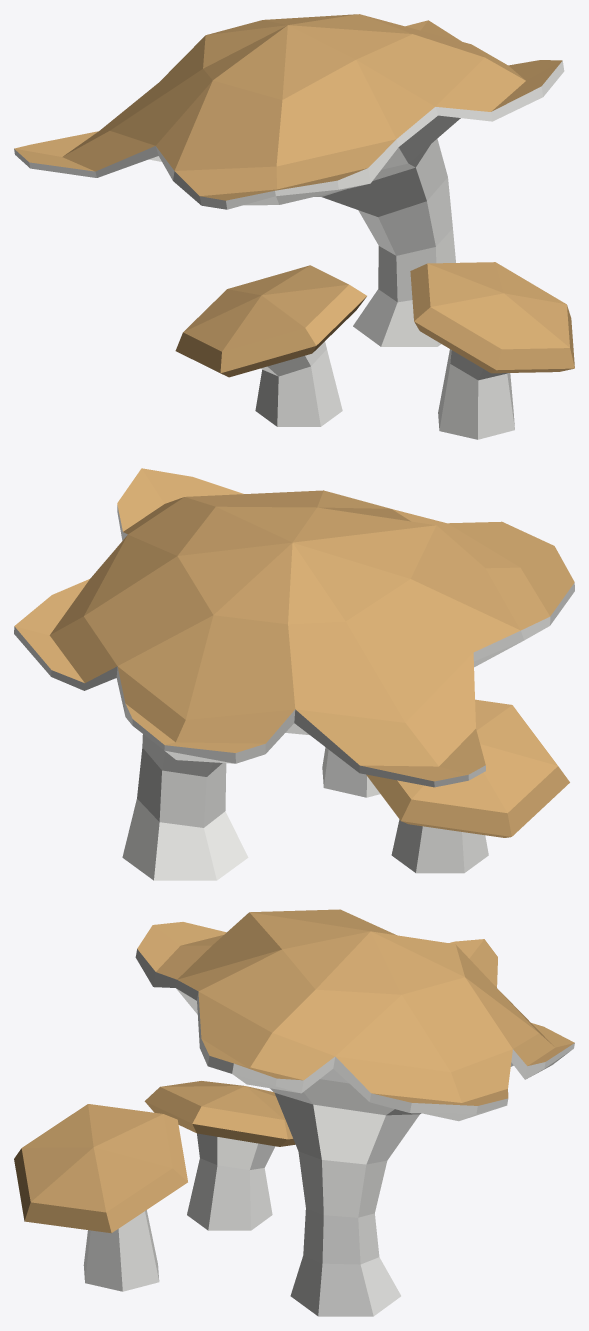
Rendered from yellow_mushroom.fbx.
The picture shows the model from 3 angles, top to bottom: view 1: azimuth 30°, elevation 25°; view 2: azimuth 150°, elevation 25°; view 3: azimuth 270°, elevation 25°; orthographic projection. The views are drawn at different scales.
Parts seen in each view (by area): view 1: yellow_mushroom; view 2: yellow_mushroom; view 3: yellow_mushroom.
Boxes of the visible parts, x1=… form: yellow_mushroom: x1=14, y1=14, x2=574, y2=439; yellow_mushroom: x1=14, y1=468, x2=574, y2=880; yellow_mushroom: x1=14, y1=909, x2=574, y2=1316.
Size of the model in its own units: 41.19 by 29.71 by 48.32.
